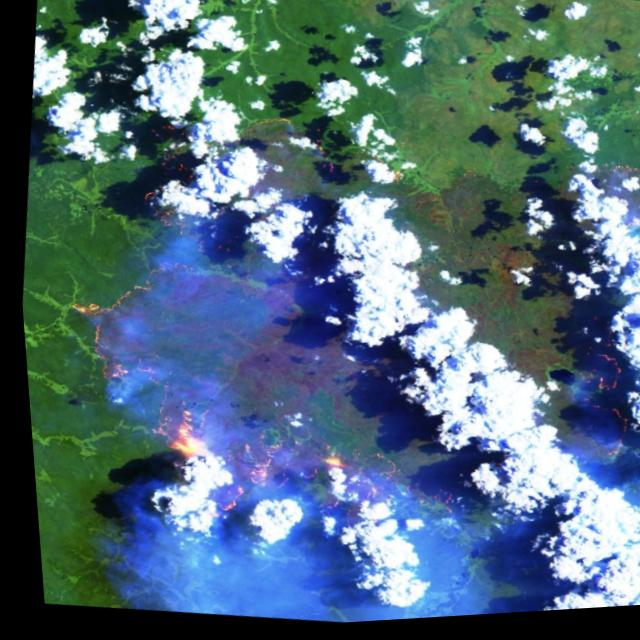fire: (15, 68, 640, 618)
